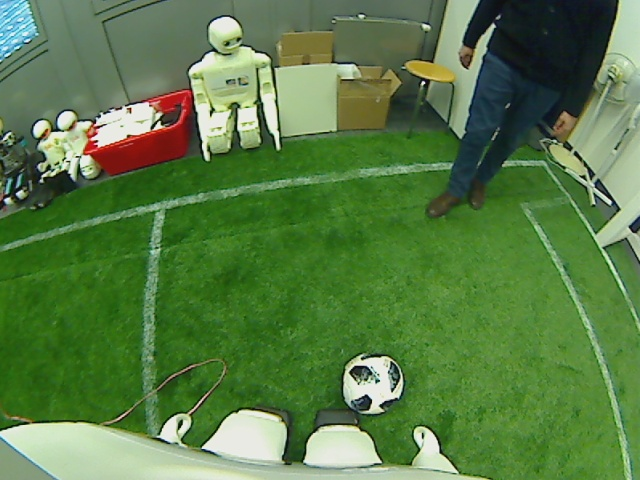ball: (340, 351, 407, 417)
